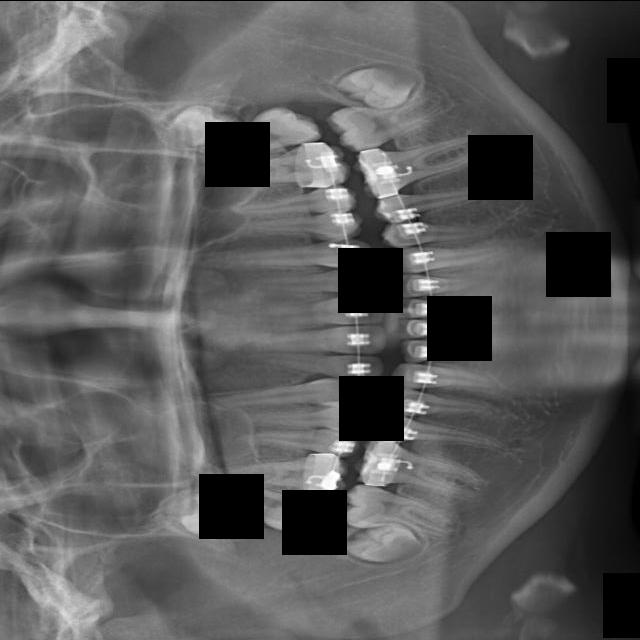3M ESPE Implant: (161, 491, 241, 536)
AGS Medikal Implant: (233, 265, 383, 294)
AMerOss Implant: (183, 237, 372, 268)
Amalgam filling: (229, 210, 364, 243)
Anthogyr Implant: (228, 183, 359, 219)
Bicon Implant: (204, 136, 352, 202)
BioHorizons Implant: (190, 97, 325, 164)
BioLife Implant: (157, 92, 248, 154)
Biomet 3i Implant: (332, 55, 422, 112)
Blue Sky Bio Implant: (322, 83, 454, 159)
Camlog Implant: (350, 131, 492, 202)
Caries: (201, 475, 328, 539)
Composite filling: (369, 168, 504, 228)
Cowellmedi Implant: (378, 210, 499, 249)
Crown: (388, 238, 511, 275)
DENTSPLY Implant: (395, 269, 491, 299)
Dentatus Implant: (396, 297, 481, 318)
Dentis Implant: (392, 307, 488, 341)
Dentium Implant: (397, 328, 491, 365)
Euroteknika Implant: (391, 363, 500, 390)
Filling: (384, 387, 504, 423)
Frontier Implant: (368, 409, 515, 462)
Hiossen Implant: (216, 435, 352, 503)
Implant: (335, 481, 461, 544)
Implant Direct: (349, 434, 491, 505)
Keystone Dental Implant: (341, 529, 425, 566)
MIS Implant: (231, 417, 360, 458)
Mandible: (233, 402, 371, 435)
Maxilla: (204, 374, 360, 409)
Megagen Implant: (238, 350, 385, 383)
Neodent Implant: (239, 325, 388, 357)
Neoss Implant: (229, 292, 387, 329)
